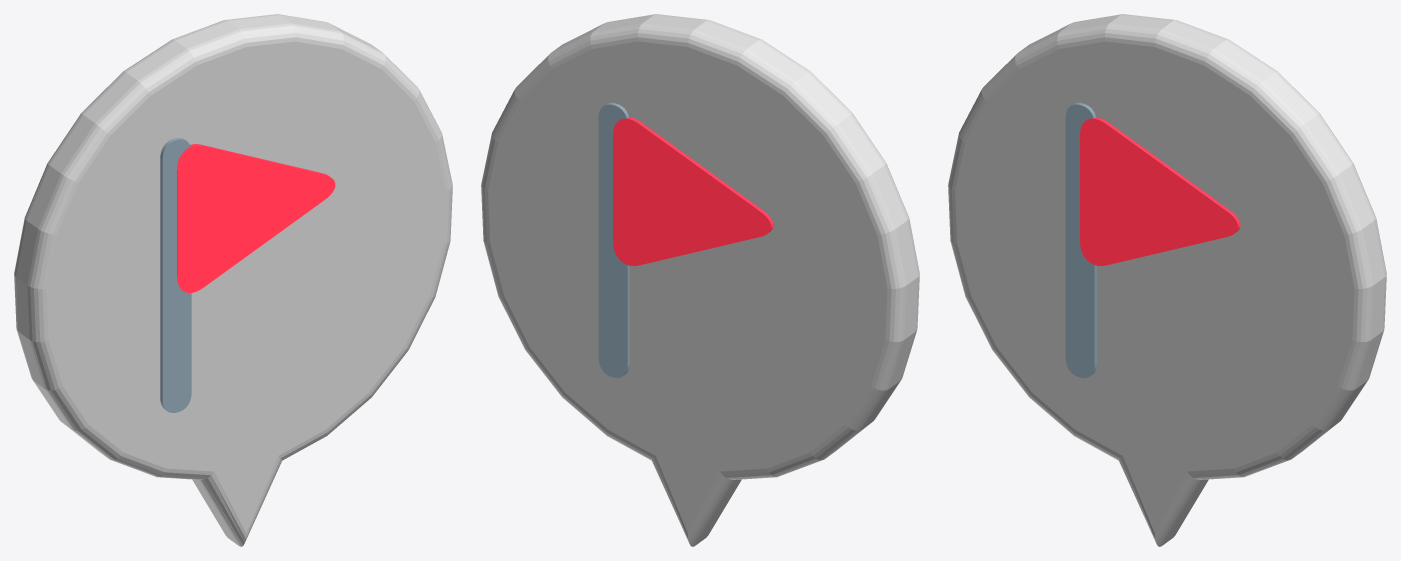
File: triangular_flag_on_post.glb
3 views of the same model, side by side, from view 1: azimuth 30°, elevation 25°; view 2: azimuth 150°, elevation 25°; view 3: azimuth 330°, elevation 25° (orthographic).
Parts seen in each view (by area): view 1: EmotionBubble; view 2: EmotionBubble; view 3: EmotionBubble.
Boxes of the visible parts, <box> form: EmotionBubble: <box>14,14,452,546</box>; EmotionBubble: <box>481,14,919,546</box>; EmotionBubble: <box>948,14,1386,546</box>.
Size of the model in its own units: 5.29 by 6.16 by 0.676.
